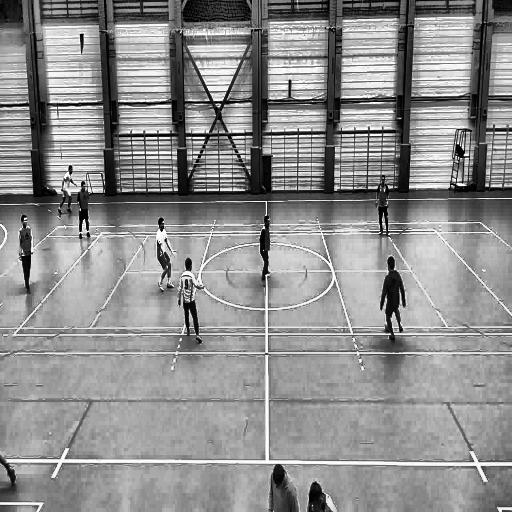ball: (383, 320, 391, 334)
player: (178, 256, 206, 346), (380, 256, 406, 345), (155, 215, 177, 295), (19, 214, 34, 298), (375, 174, 392, 241), (76, 179, 92, 242), (60, 160, 77, 219), (259, 213, 271, 289)
